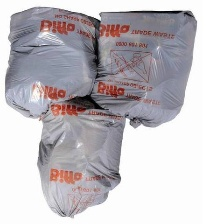plastic_bag: (87, 8, 202, 131), (32, 95, 134, 219), (1, 3, 98, 123)
